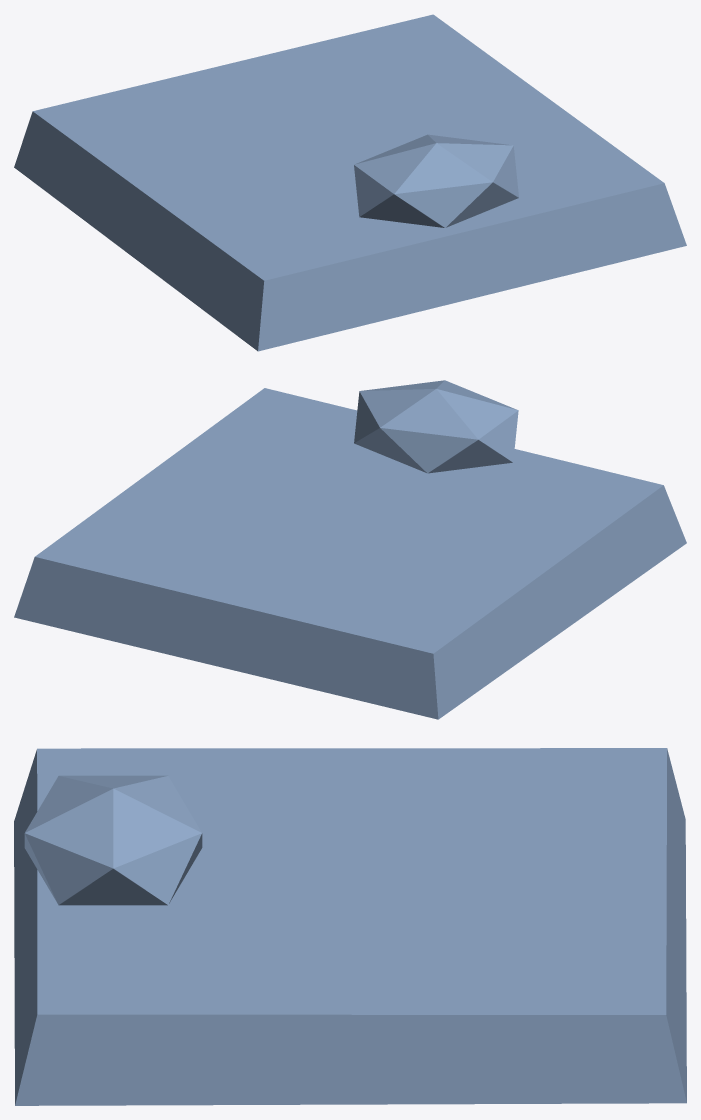
File: mattress_whole.glb
3 views of the same model, one above another, from view 1: azimuth 30°, elevation 25°; view 2: azimuth 150°, elevation 25°; view 3: azimuth 270°, elevation 25° (orthographic). The views are drawn at different scales.
Parts seen in each view (by area): view 1: mattress_whole_0; view 2: mattress_whole_0; view 3: mattress_whole_0.
Boxes of the visible parts, bbox=[...] form: mattress_whole_0: bbox=[14, 14, 686, 351]; mattress_whole_0: bbox=[14, 380, 686, 719]; mattress_whole_0: bbox=[14, 748, 686, 1105].
Size of the model in its own units: 0.9054 by 0.2604 by 0.9028.
